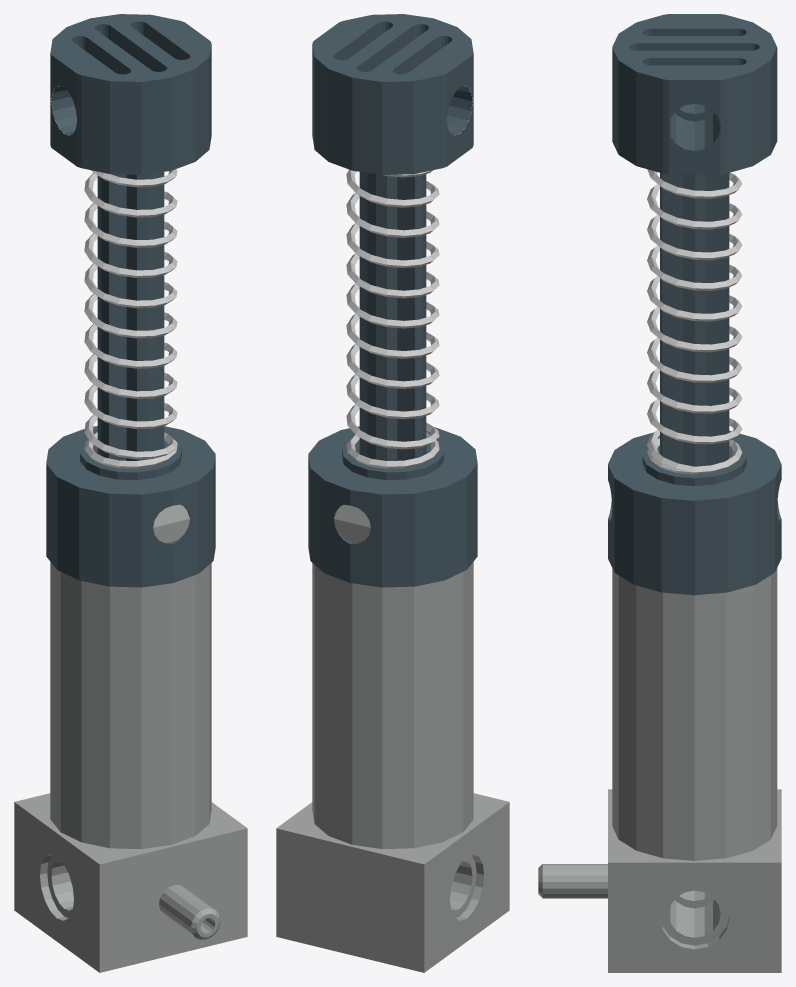
3 views of the same model, side by side, from view 1: azimuth 30°, elevation 25°; view 2: azimuth 150°, elevation 25°; view 3: azimuth 270°, elevation 25° (orthographic).
Parts seen in each view (by area): view 1: world; view 2: world; view 3: world.
Part boxes in pixels (x1,y1,x2,y2): world: [14, 14, 247, 972]; world: [276, 14, 509, 972]; world: [538, 14, 781, 972].
Size of the model in its own units: 0.016 by 0.0904 by 0.0224.
